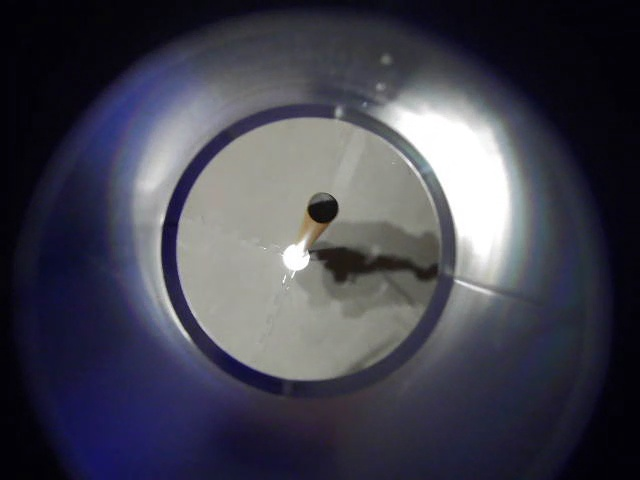tip: (296, 187, 350, 240)
